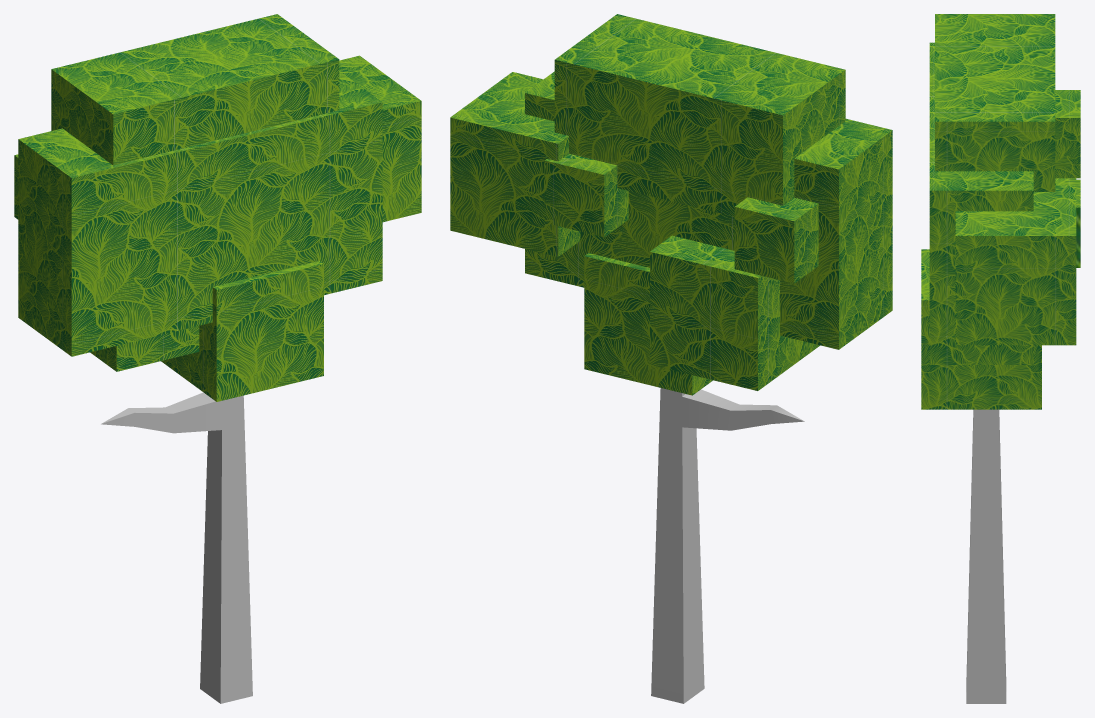
The model's file is tree.fbx.
3 renders of one model, left to right at view 1: azimuth 30°, elevation 25°; view 2: azimuth 150°, elevation 25°; view 3: azimuth 270°, elevation 25°, orthographic. The views are drawn at different scales.
Parts seen in each view (by area): view 1: pCube10; view 2: pCube10; view 3: pCube10.
Part boxes in pixels (bbox=[...]): pCube10: bbox=[14, 14, 421, 703]; pCube10: bbox=[450, 14, 892, 703]; pCube10: bbox=[921, 14, 1080, 703].
Size of the model in its own units: 8.11 by 13.47 by 3.16.
